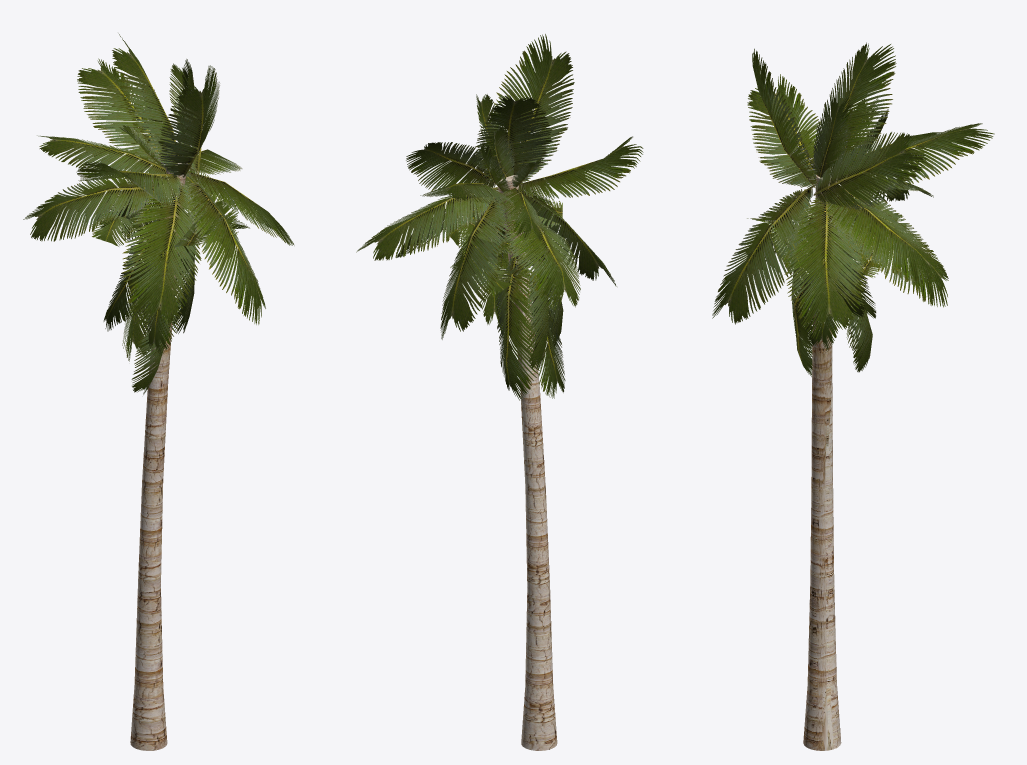
The model's file is palm tree.fbx.
3 renders of one model, left to right at view 1: azimuth 30°, elevation 25°; view 2: azimuth 150°, elevation 25°; view 3: azimuth 270°, elevation 25°, orthographic. The views are drawn at different scales.
Parts seen in each view (by area): view 1: pPlane97; view 2: pPlane97; view 3: pPlane97.
Part boxes in pixels (left/top/right/bottom): pPlane97: left=23, top=33, right=294, bottom=750; pPlane97: left=356, top=34, right=643, bottom=750; pPlane97: left=712, top=42, right=994, bottom=750.
Size of the model in its own units: 5.04 by 12.4 by 4.88.
